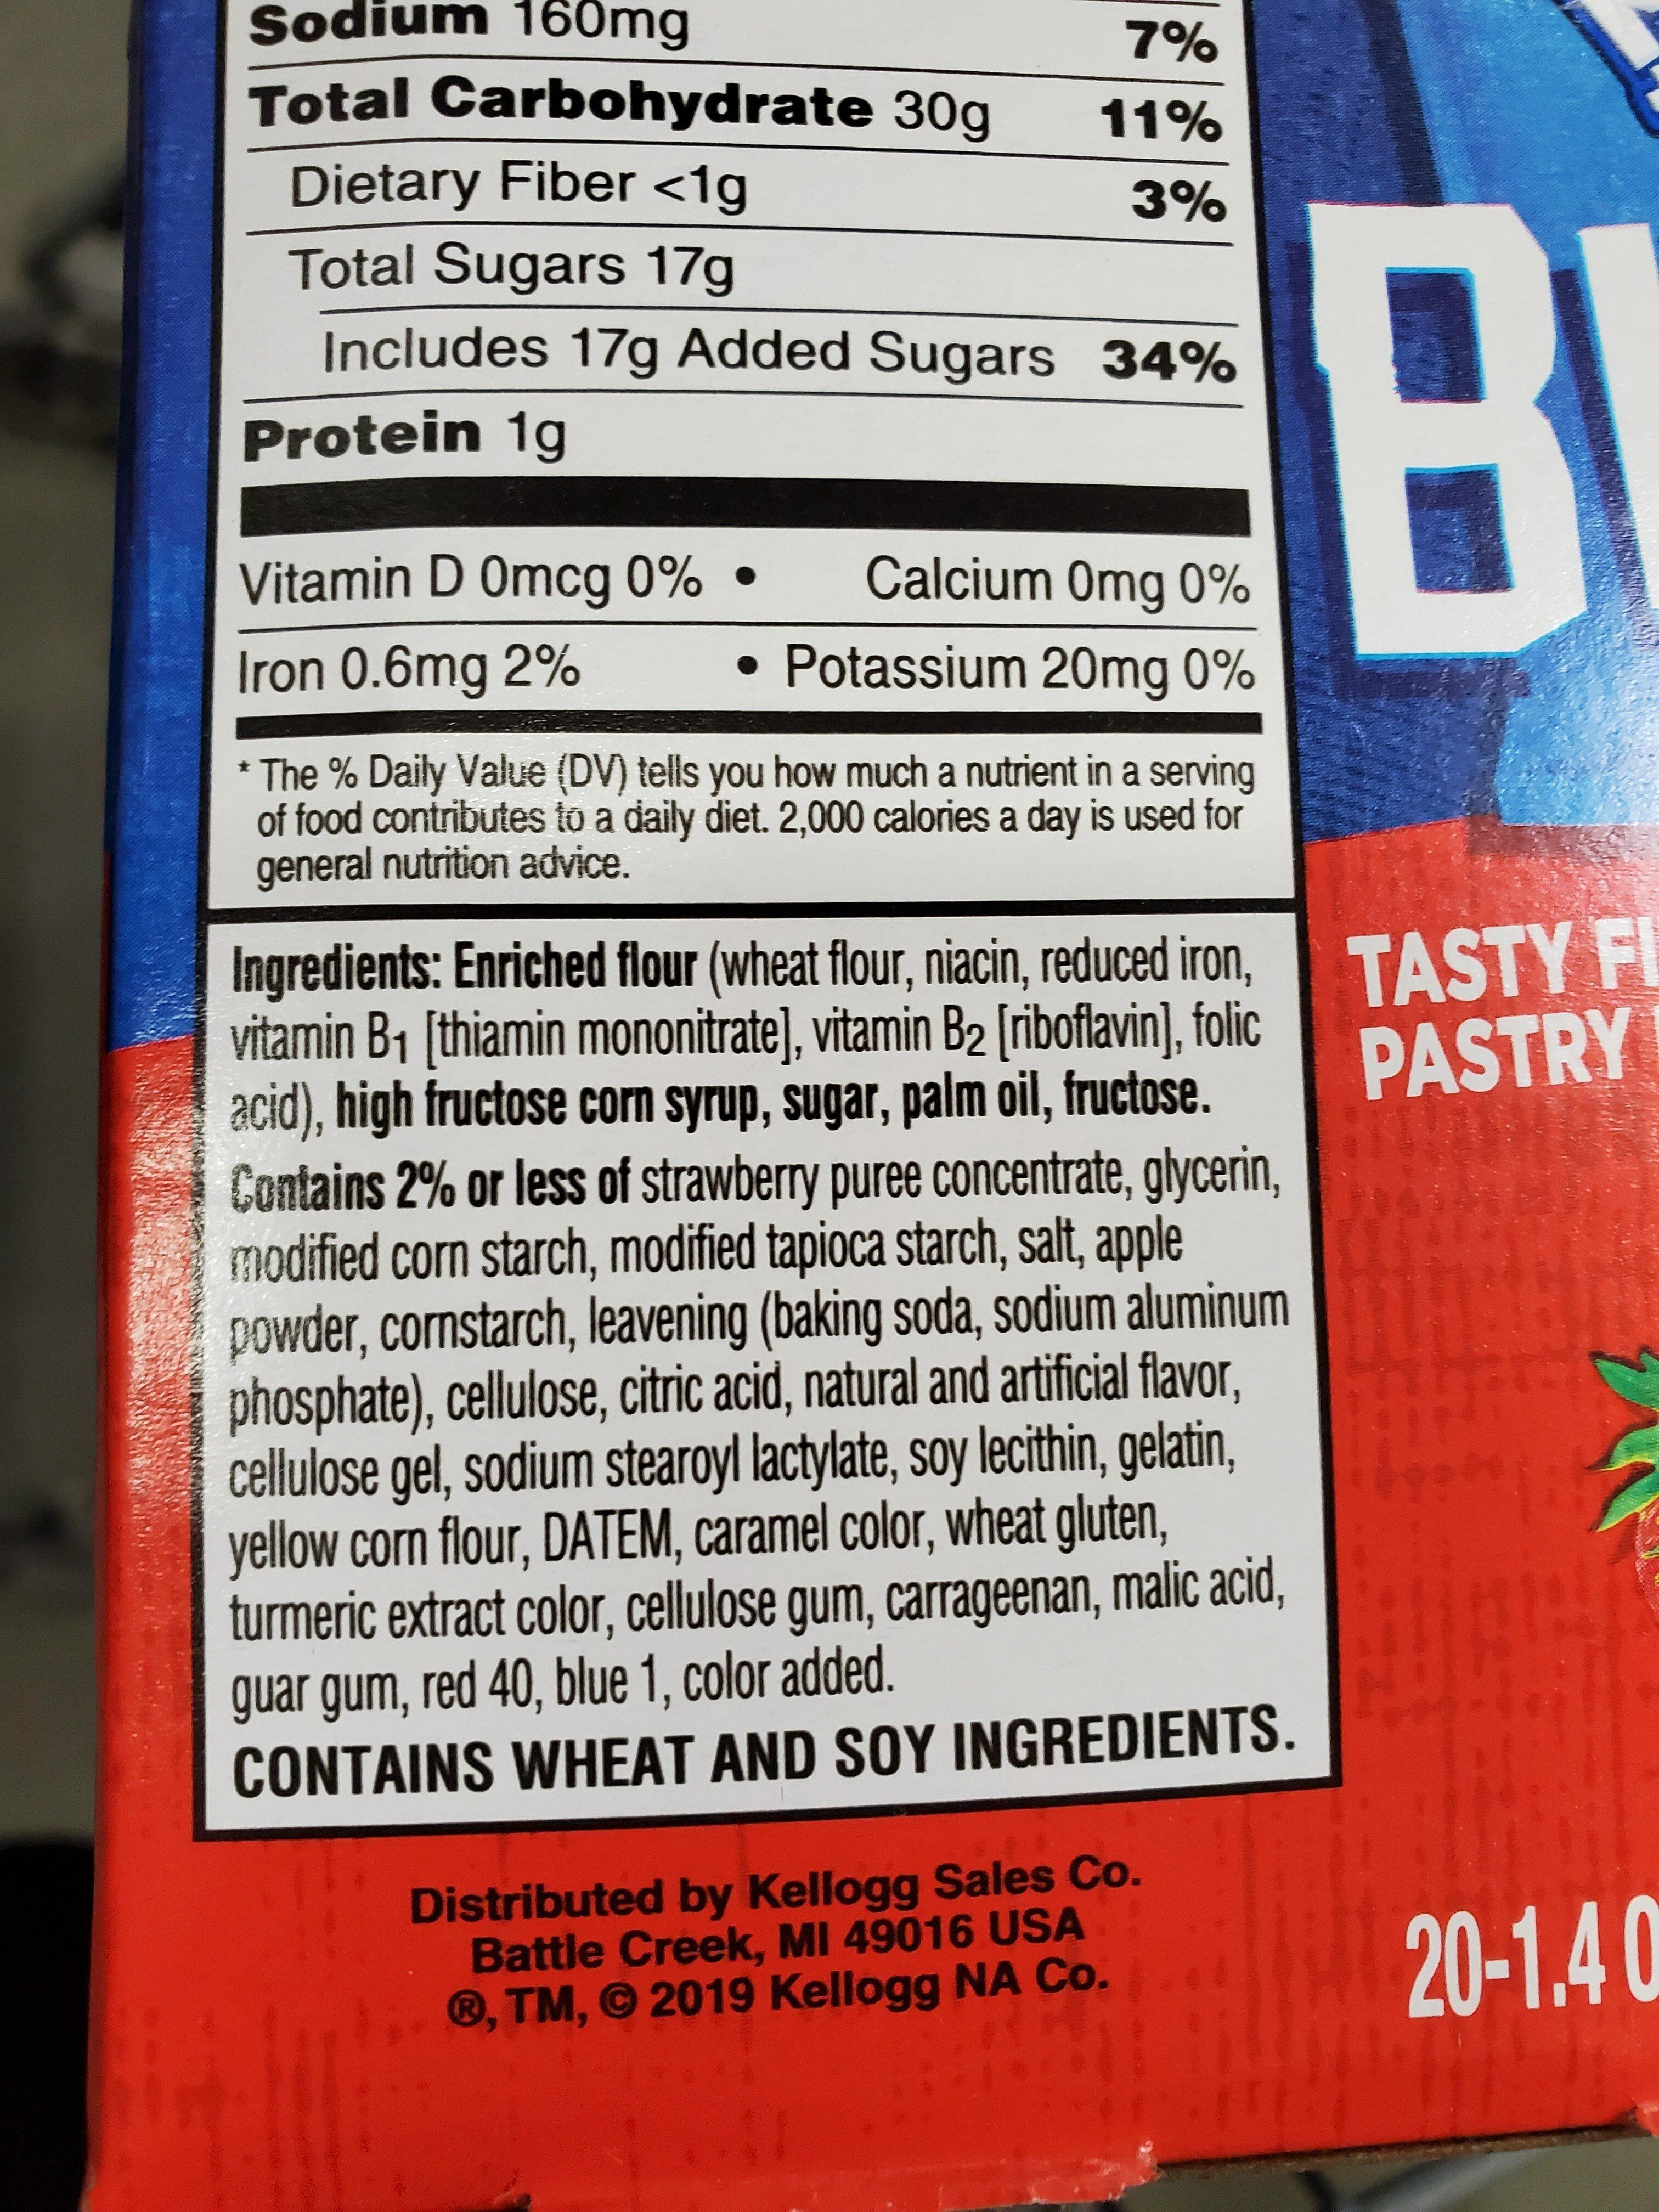ingredients: (211, 930, 1337, 1714)
